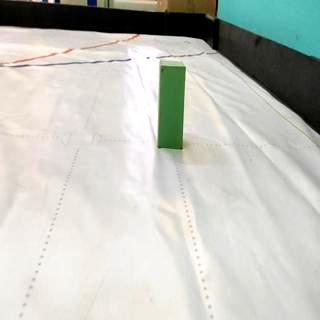greenbox: (159, 58, 186, 151)
